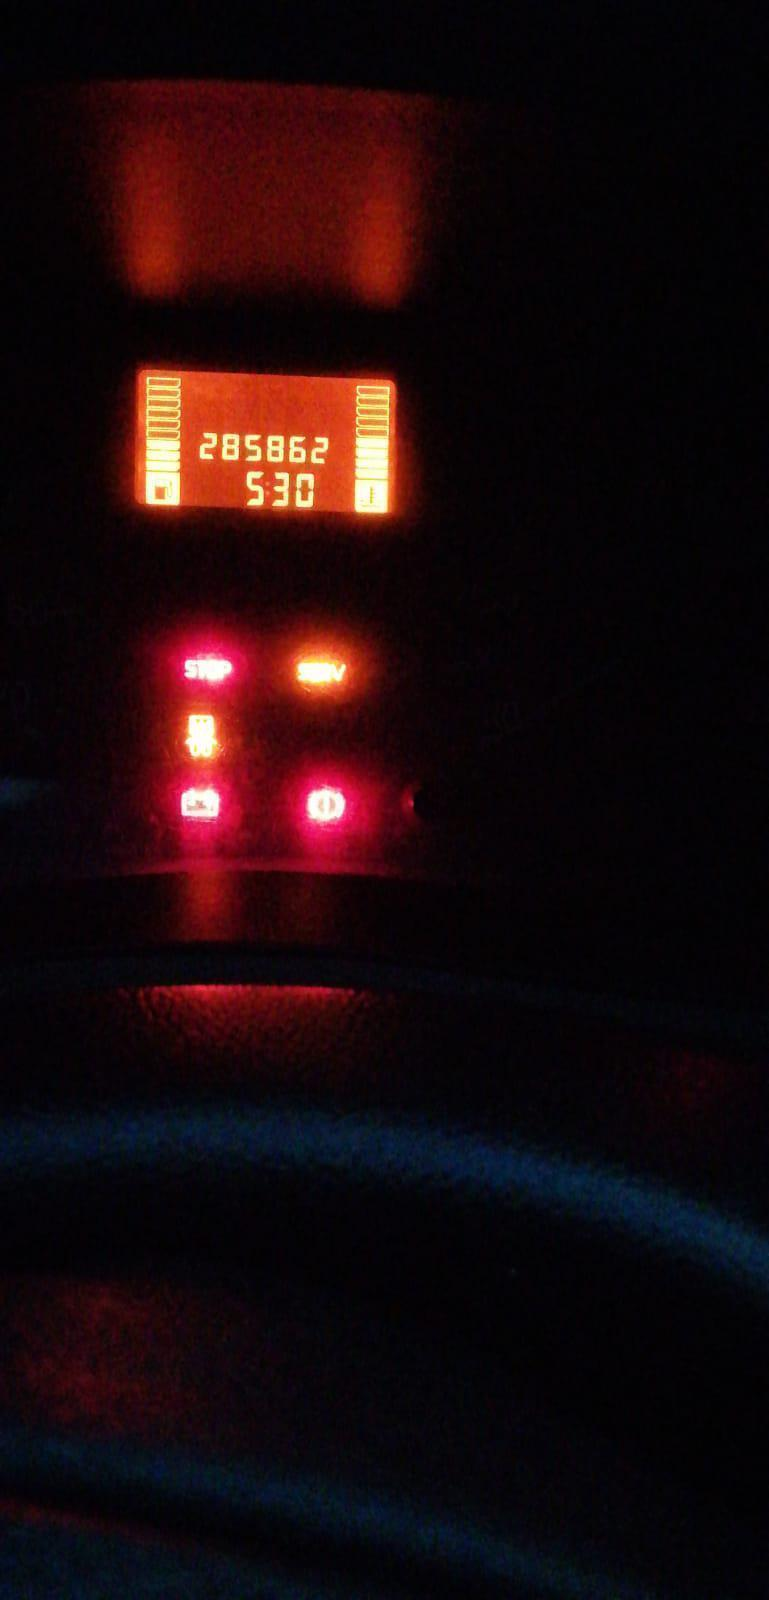0: (294, 472, 314, 507)
2: (198, 431, 217, 460), (310, 436, 328, 464)
3: (271, 471, 289, 506)
5: (245, 470, 264, 506), (243, 433, 262, 461)
6: (288, 435, 306, 463)
8: (265, 434, 284, 463), (221, 433, 239, 460)
odometer: (131, 366, 399, 517)
